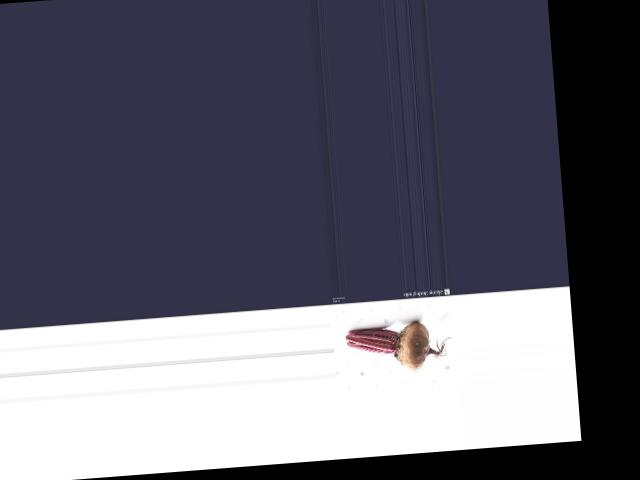beet: (344, 319, 452, 374)
